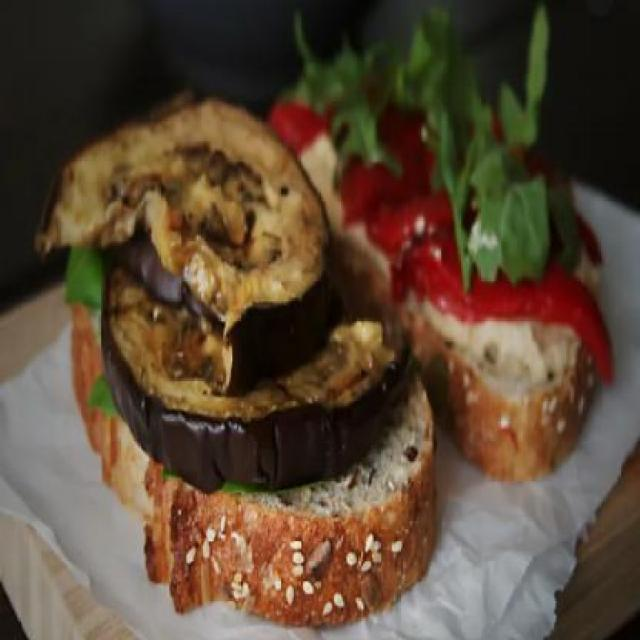beet salad: (277, 45, 617, 403)
eggplant: (41, 112, 402, 456)
hummus: (309, 130, 582, 365)
